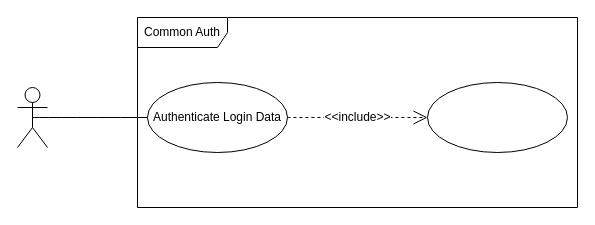
Some shapes in this 595 by 225 pixel diagram are drawn without their labels. Each missing label, with the box of its shape:
UC-COM-03 - Record Audit Event: (426, 82, 568, 152)
User: (16, 86, 48, 148)
